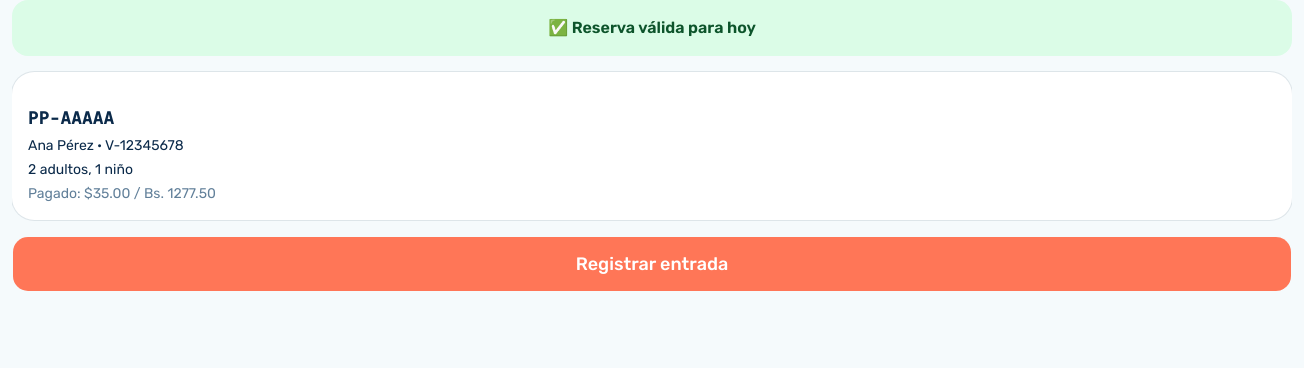
Test: CheckinCard › failed check-in action shows the returned message
Click the button "Registrar entrada" at (652, 264), box [12,236,1292,292]
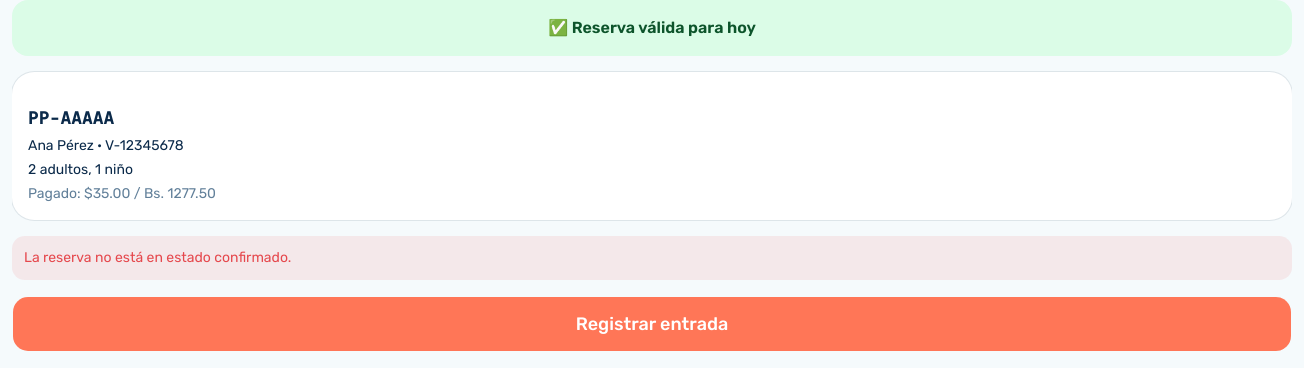
Now the text "La reserva no está en estado confirmado." is shown, box [12,236,1292,280]
